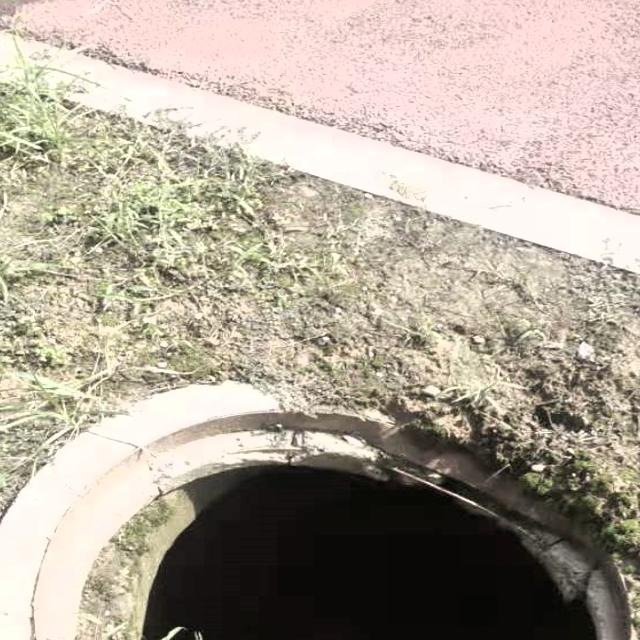lose: (0, 376, 640, 640)
